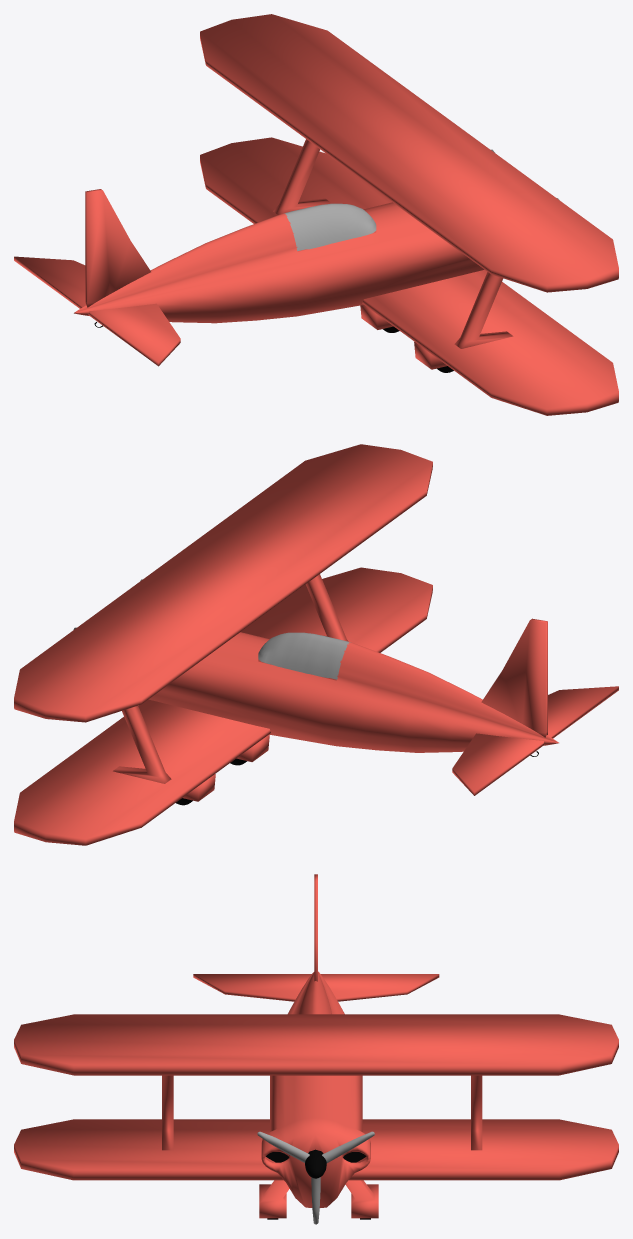
The picture shows the model from 3 angles, top to bottom: view 1: azimuth 30°, elevation 25°; view 2: azimuth 150°, elevation 25°; view 3: azimuth 270°, elevation 25°; orthographic projection. The views are drawn at different scales.
Visible parts, largest first — view 1: Plane.002, Circle, Plane.005, Plane.001, Plane.003, Plane.004, Cube; view 2: Plane.002, Circle, Plane.005, Plane.001, Plane.004, Plane.003, Cube; view 3: Plane.002, Circle, Plane.005, Cube, Circle.002, Plane.003, Plane.004, Mesh.
Boxes of the visible parts, <box> form: Plane.002: <box>200,14,618,415</box>; Circle: <box>74,202,484,323</box>; Plane.005: <box>14,189,180,366</box>; Plane.001: <box>284,203,376,251</box>; Plane.003: <box>454,272,513,348</box>; Plane.004: <box>273,139,331,214</box>; Cube: <box>360,305,447,369</box>; Plane.002: <box>14,444,432,845</box>; Circle: <box>138,632,558,752</box>; Plane.005: <box>452,618,618,795</box>; Plane.001: <box>258,632,350,679</box>; Plane.004: <box>113,706,171,783</box>; Plane.003: <box>306,574,348,641</box>; Cube: <box>183,734,269,801</box>; Plane.002: <box>14,1014,618,1180</box>; Circle: <box>261,971,370,1207</box>; Plane.005: <box>193,874,439,1001</box>; Cube: <box>259,1180,378,1218</box>; Circle.002: <box>257,1131,374,1224</box>; Plane.003: <box>162,1075,173,1150</box>; Plane.004: <box>471,1075,482,1150</box>; Mesh: <box>305,1150,326,1178</box>.
Size of the model in its own units: 12.25 by 5.86 by 15.68.
